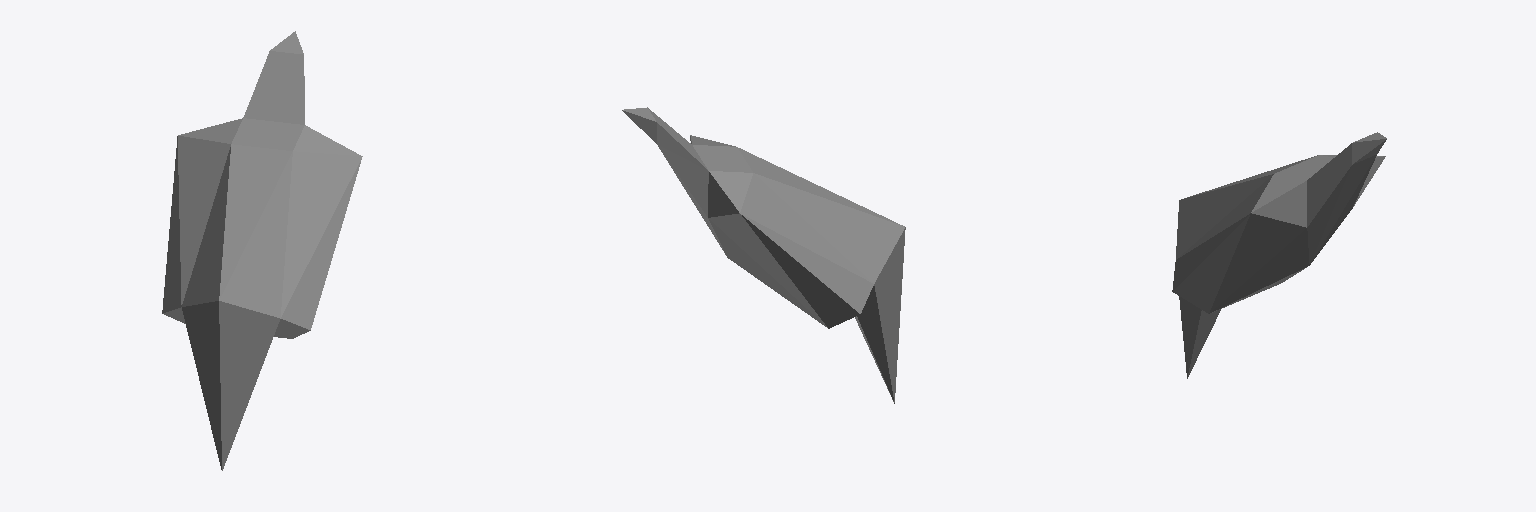
Rendered from rightfrontcalf.obj.
3 renders of one model, left to right at view 1: azimuth 30°, elevation 25°; view 2: azimuth 150°, elevation 25°; view 3: azimuth 270°, elevation 25°, orthographic.
Visible parts, largest first — view 1: Box01_sep8; view 2: Box01_sep8; view 3: Box01_sep8.
Boxes of the visible parts, x1,y1,x2,y2 form: Box01_sep8: [162, 31, 362, 470]; Box01_sep8: [622, 107, 905, 403]; Box01_sep8: [1172, 132, 1386, 378].
Bounding box in the file's own units: 2.15 × 3.58 × 2.15.